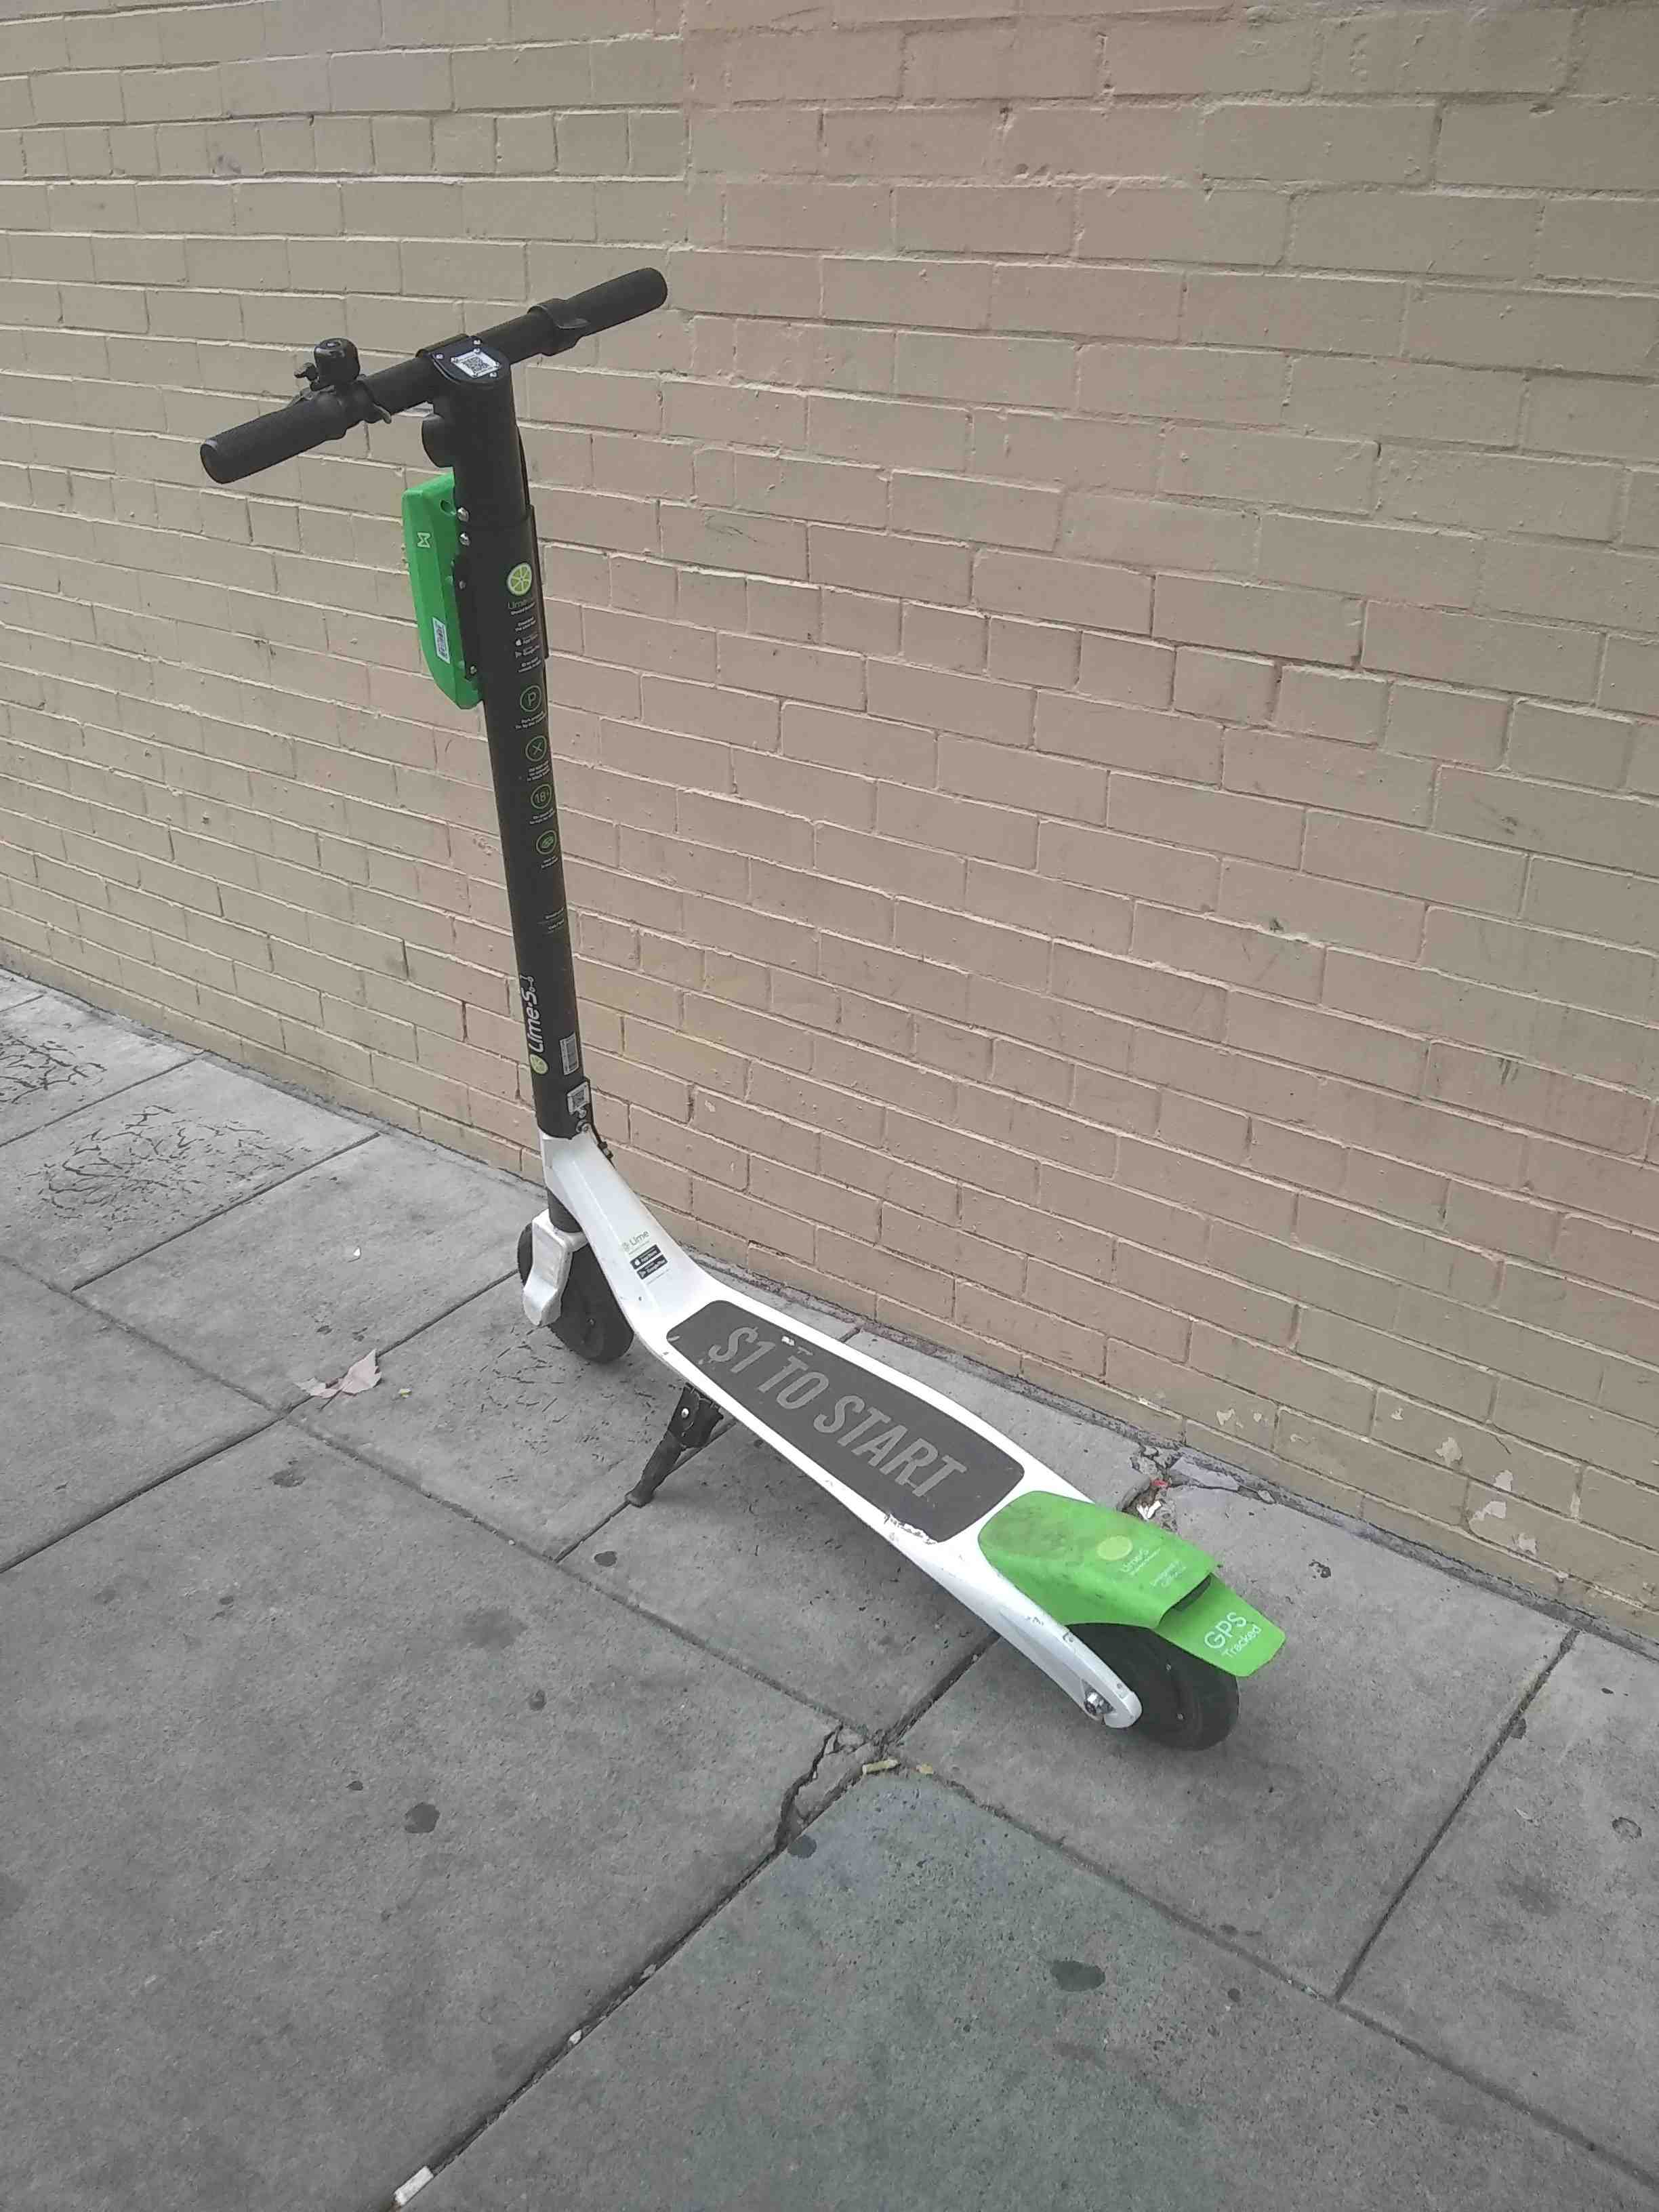scooter: (145, 244, 1323, 1780)
